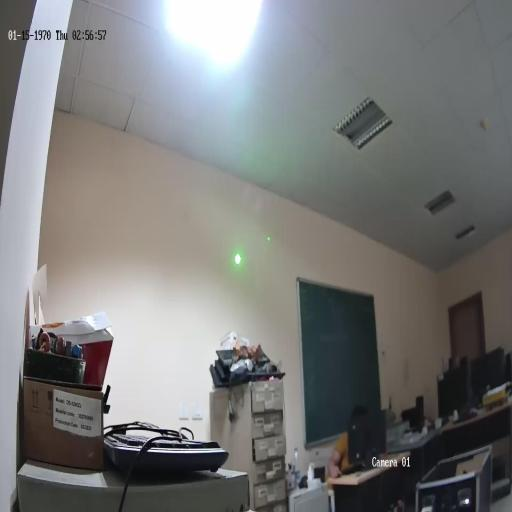laser: (233, 251, 243, 268)
